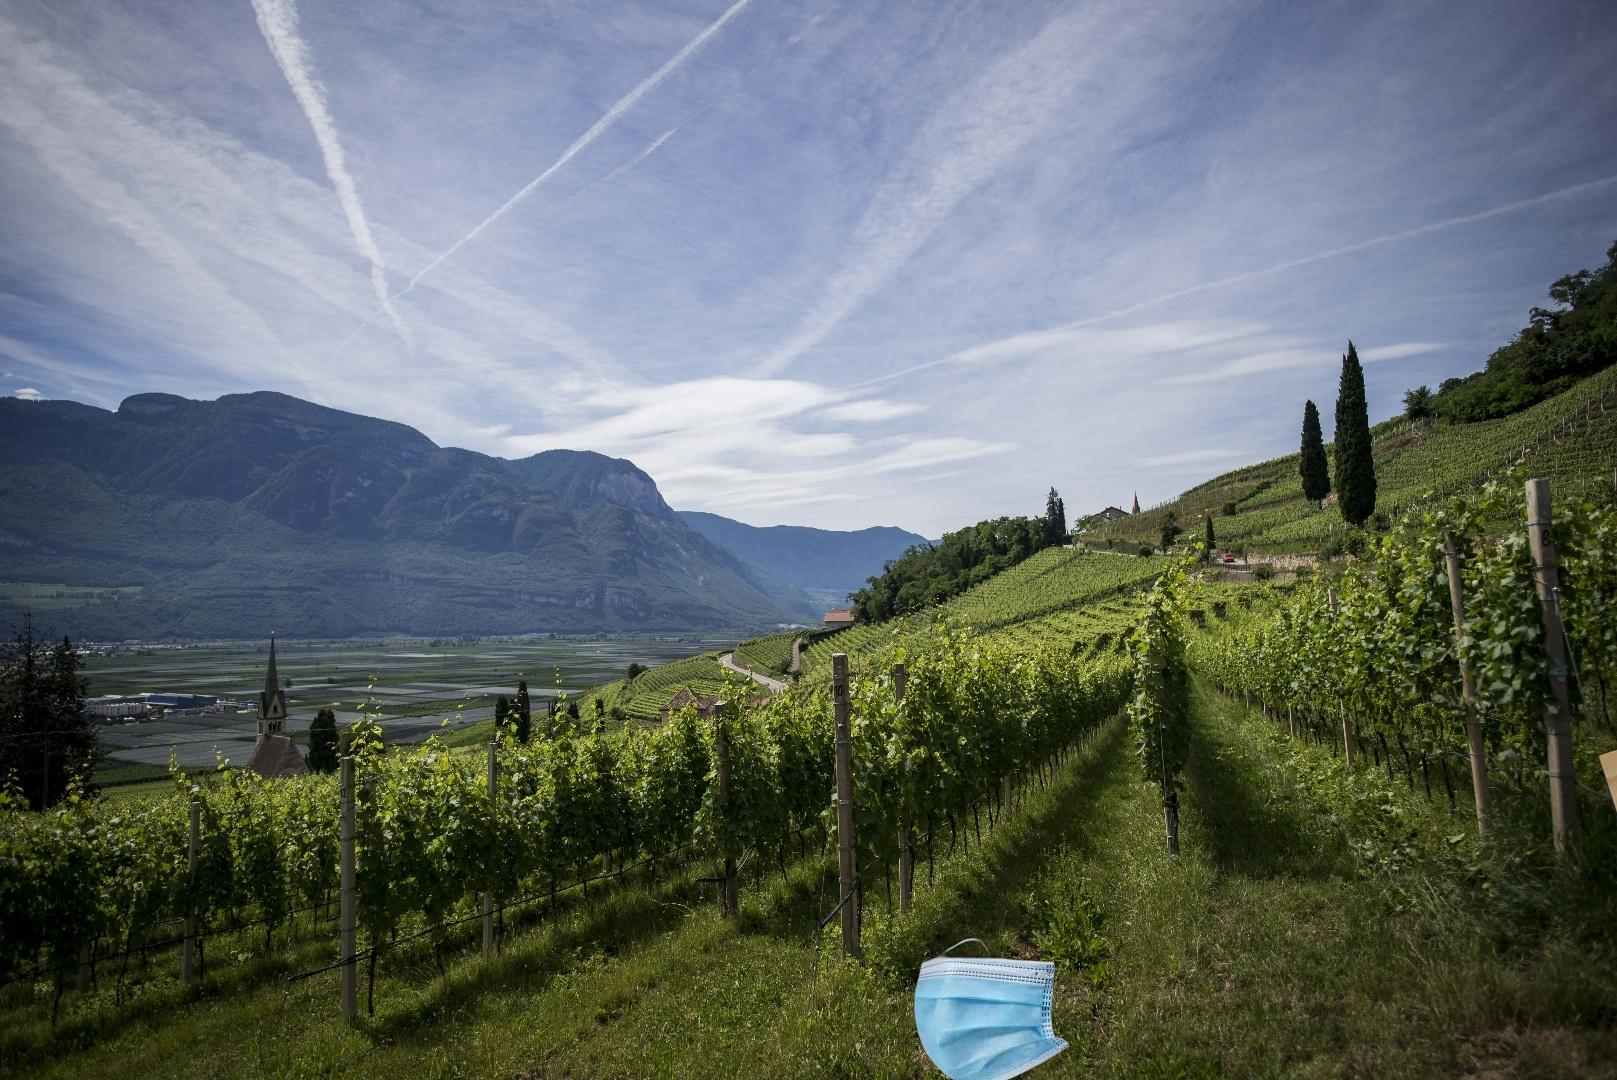paper-bag: (1595, 664, 1617, 915)
trash: (911, 935, 1072, 1080)
